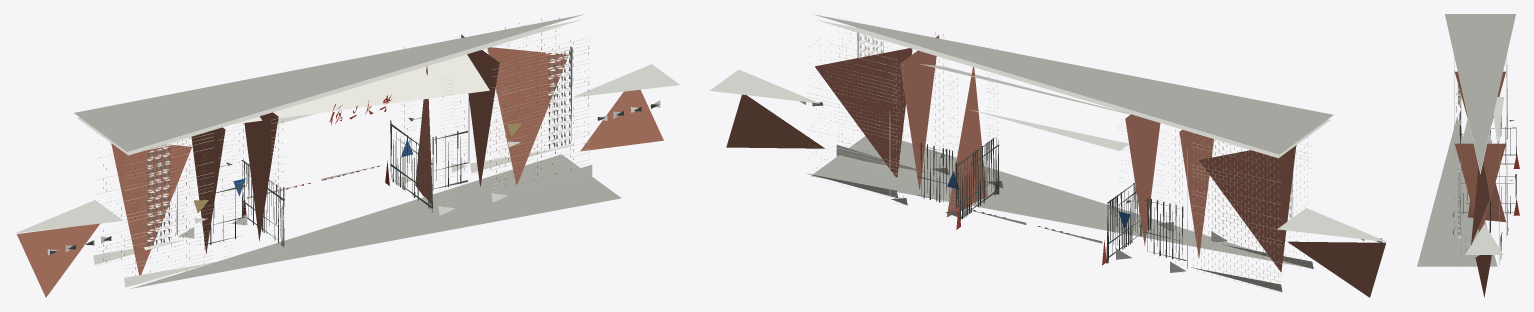
3 views of the same model, side by side, from view 1: azimuth 30°, elevation 25°; view 2: azimuth 150°, elevation 25°; view 3: azimuth 270°, elevation 25° (orthographic). The views are drawn at different scales.
Parts seen in each view (by area): view 1: 复旦正门 · Gate grey threshold.002, 复旦正门 · Gate warm red brick.002, 复旦正门 · Gate white concrete.002, 复旦正门 · Gate pale mortar.002, 复旦正门 · Gate black iron.002; view 2: 复旦正门 · Gate warm red brick.002, 复旦正门 · Gate grey threshold.002, 复旦正门 · Gate white concrete.002, 复旦正门 · Gate pale mortar.002, 复旦正门 · Gate black iron.002; view 3: 复旦正门 · Gate grey threshold.002, 复旦正门 · Gate warm red brick.002, 复旦正门 · Gate white concrete.002, 复旦正门 · Gate pale mortar.002, 复旦正门 · Gate black iron.002, 复旦正门 · Gate red lettering.002.
Boxes of the visible parts, x1,y1,x2,y2 form: 复旦正门 · Gate grey threshold.002: (74, 14, 621, 288); 复旦正门 · Gate warm red brick.002: (16, 34, 663, 297); 复旦正门 · Gate white concrete.002: (15, 20, 679, 287); 复旦正门 · Gate pale mortar.002: (96, 18, 590, 285); 复旦正门 · Gate black iron.002: (50, 104, 658, 254); 复旦正门 · Gate warm red brick.002: (726, 35, 1385, 297); 复旦正门 · Gate grey threshold.002: (811, 14, 1333, 267); 复旦正门 · Gate white concrete.002: (710, 19, 1386, 291); 复旦正门 · Gate pale mortar.002: (807, 17, 1311, 292); 复旦正门 · Gate black iron.002: (819, 102, 1186, 263); 复旦正门 · Gate grey threshold.002: (1417, 14, 1515, 266); 复旦正门 · Gate warm red brick.002: (1455, 71, 1505, 297); 复旦正门 · Gate white concrete.002: (1452, 64, 1508, 259); 复旦正门 · Gate pale mortar.002: (1454, 57, 1506, 264); 复旦正门 · Gate black iron.002: (1460, 120, 1516, 236); 复旦正门 · Gate red lettering.002: (1513, 153, 1519, 215).
Size of the model in its own units: 38.05 by 8.29 by 7.79.
